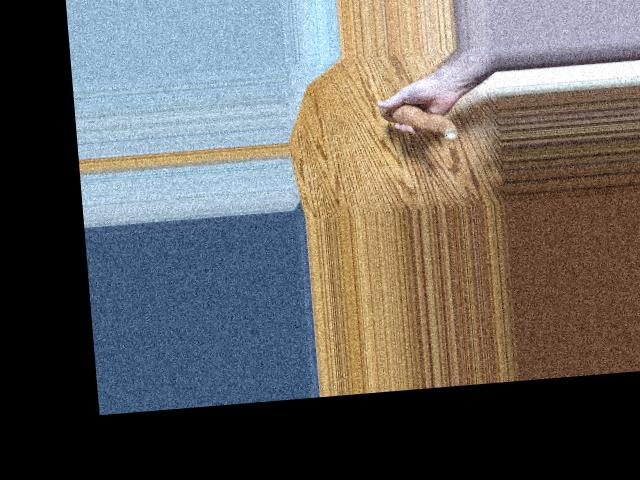sweet_potato: (380, 96, 461, 143)
